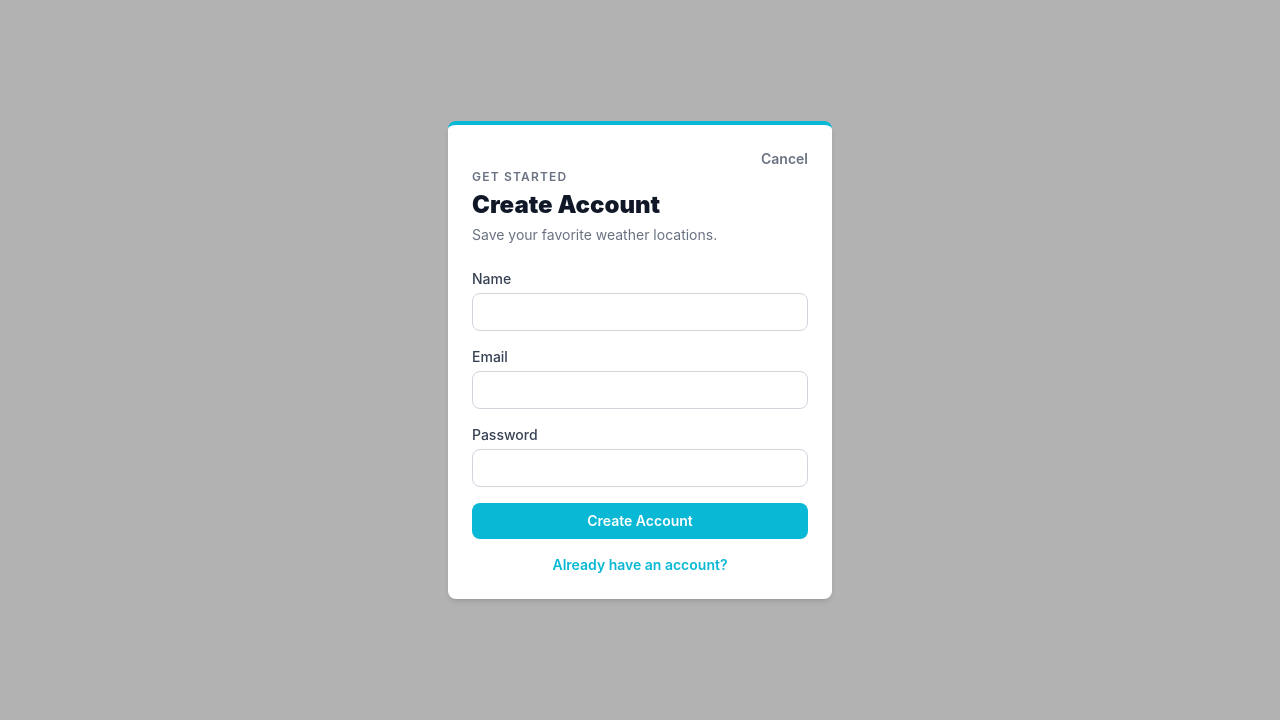
AuthModal › switches to login form when Already have an account is clicked
The image size is (1280, 720).
Click the button "Already have an account?": (640, 565) [472, 555, 808, 575]
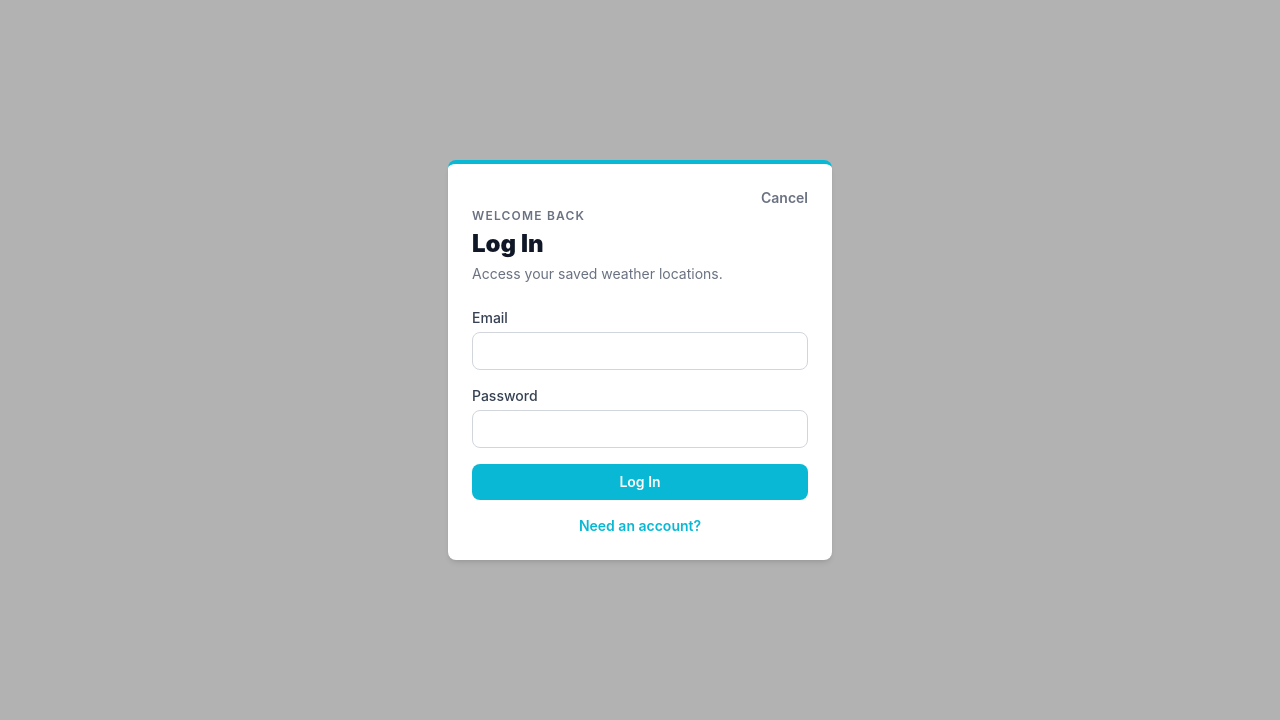
Result: the heading "Log In" is shown at [472, 229, 544, 258]
